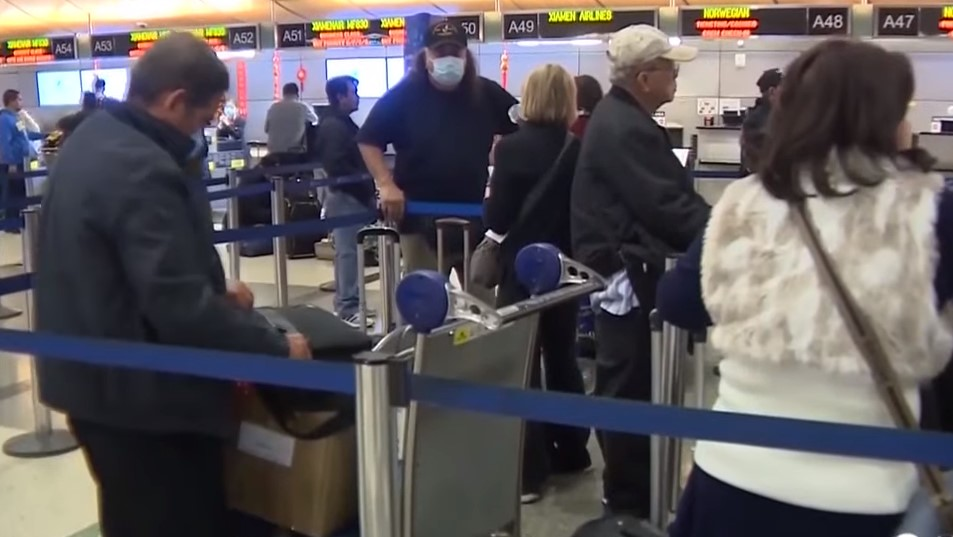face_with_mask: (132, 30, 231, 157), (421, 20, 473, 92)
